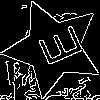E: (28, 23, 85, 72)
